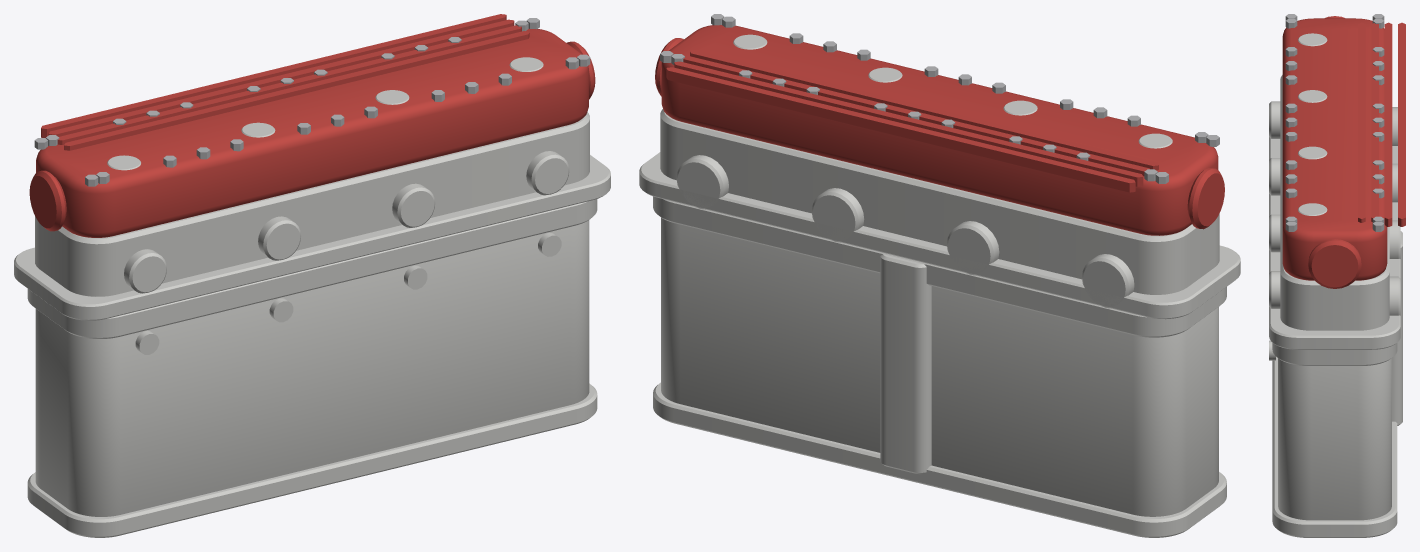
File: hot_cam.glb
3 renders of one model, left to right at view 1: azimuth 30°, elevation 25°; view 2: azimuth 150°, elevation 25°; view 3: azimuth 270°, elevation 25°, orthographic. The views are drawn at different scales.
Visible parts, largest first — view 1: lod0; view 2: lod0; view 3: lod0.
Part boxes in pixels (x1,y1,x2,y2): lod0: (14, 14, 610, 537); lod0: (639, 14, 1240, 537); lod0: (1269, 14, 1405, 537).
Size of what is drawn, in the model's own units: 0.488 by 0.3043 by 0.1225.
